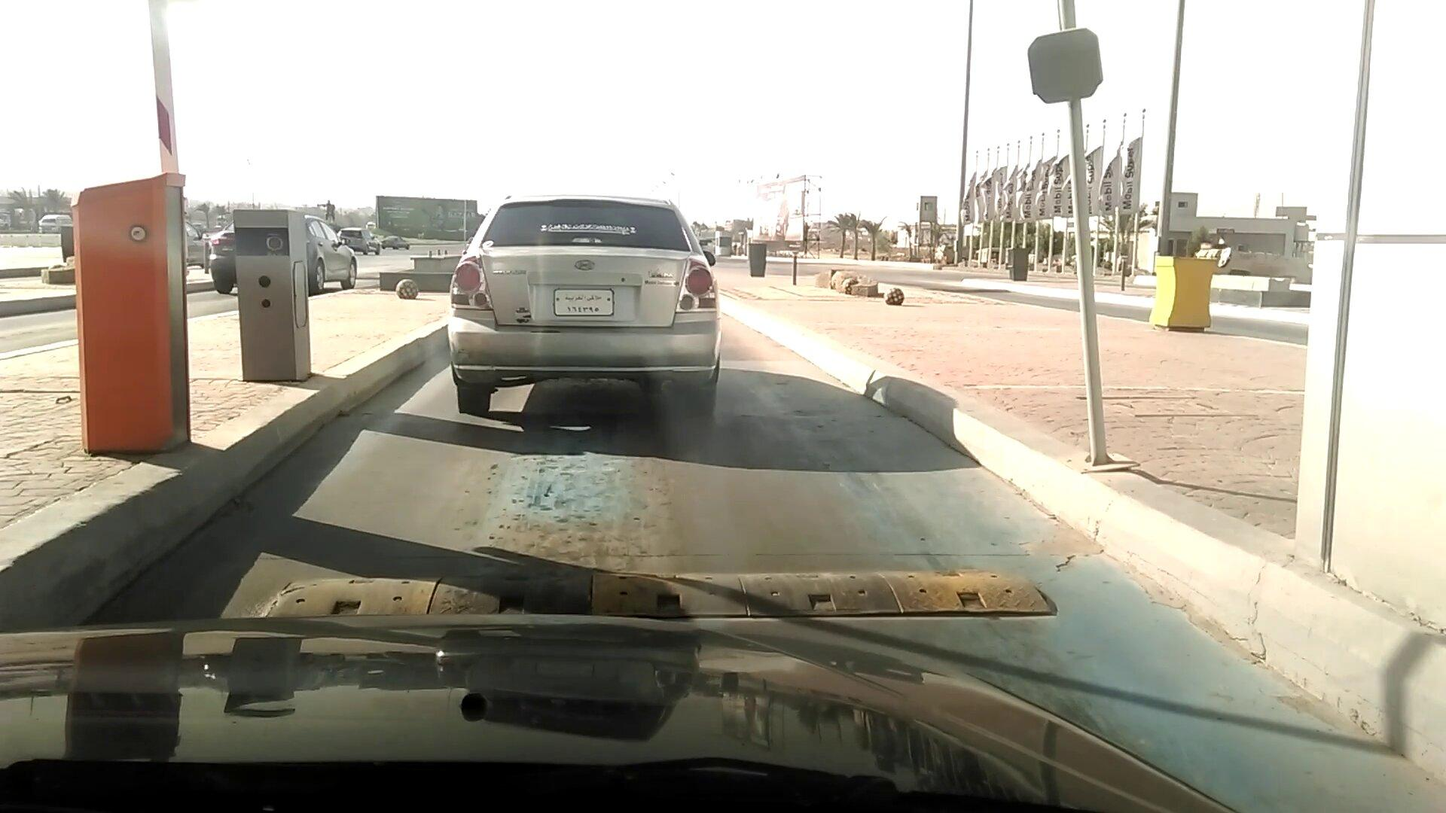Bump: (271, 563, 1058, 630)
